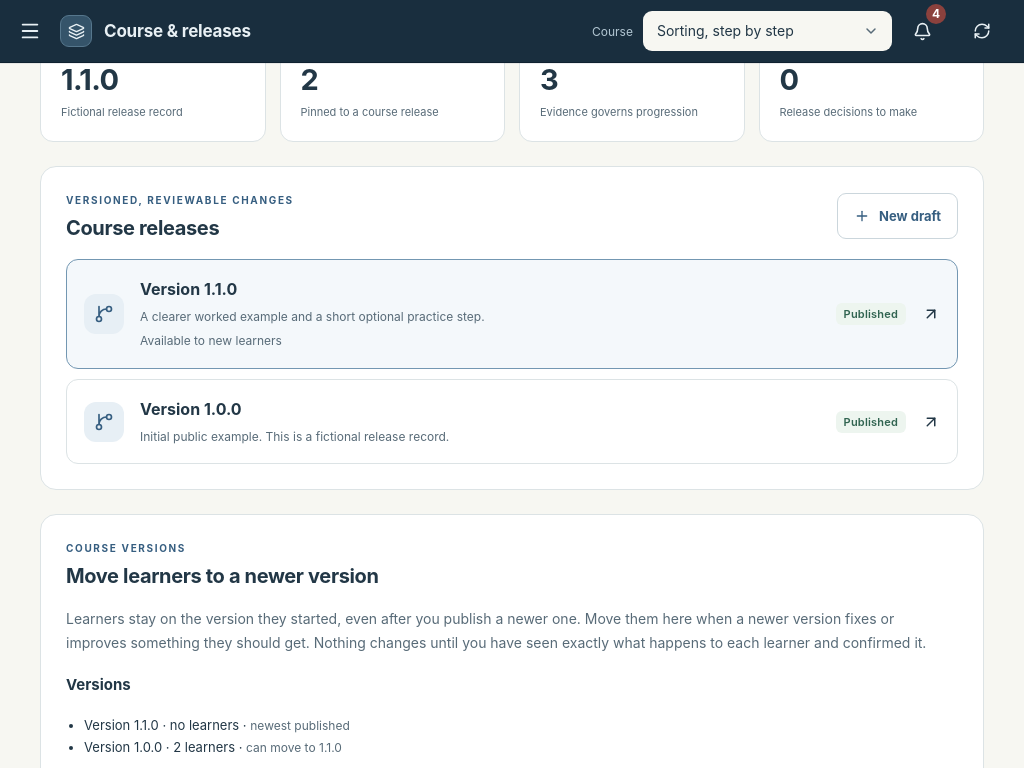
it: admin presentation workflows › lets the administrator select an older immutable release without changing learner pins
(page scrolled)
Step 1. Click the button "Version 1.0.0" → x=104, y=422, box left=66, top=379, right=958, bottom=464
(page scrolled)
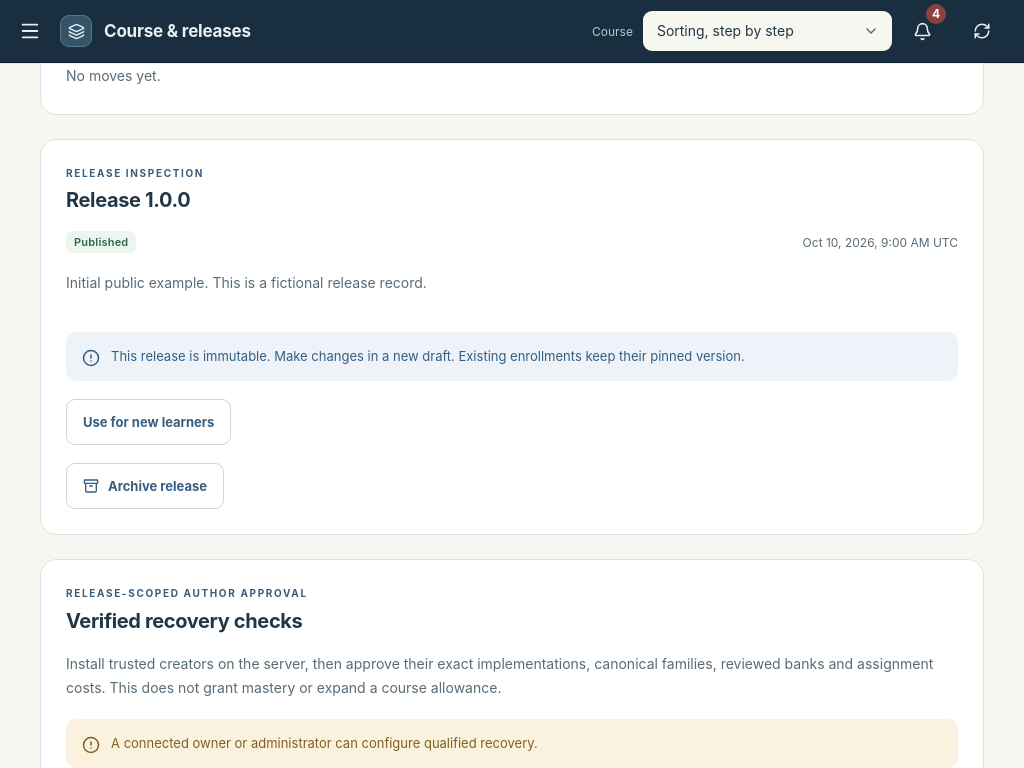
Expected: the button "Use for new learners" is enabled
Step 2. Click the button "Use for new learners" → x=149, y=422, box left=66, top=399, right=231, bottom=445
(page scrolled)
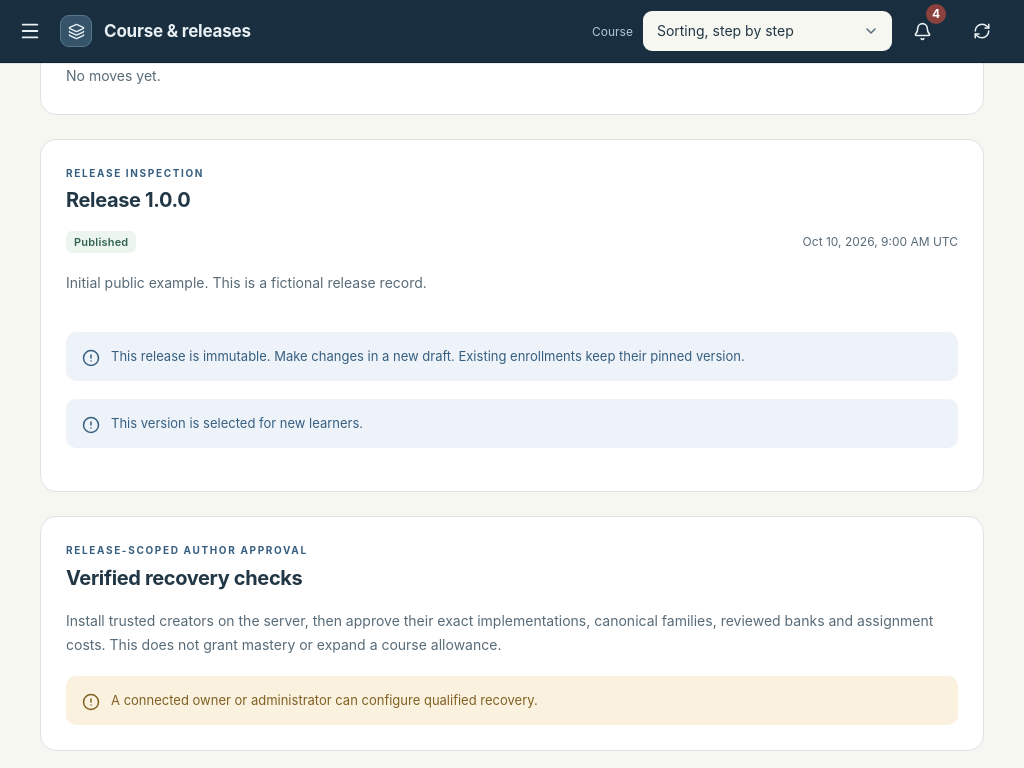
Expected: the text "This version is selected for new learners." is shown, left=111, top=413, right=363, bottom=434
